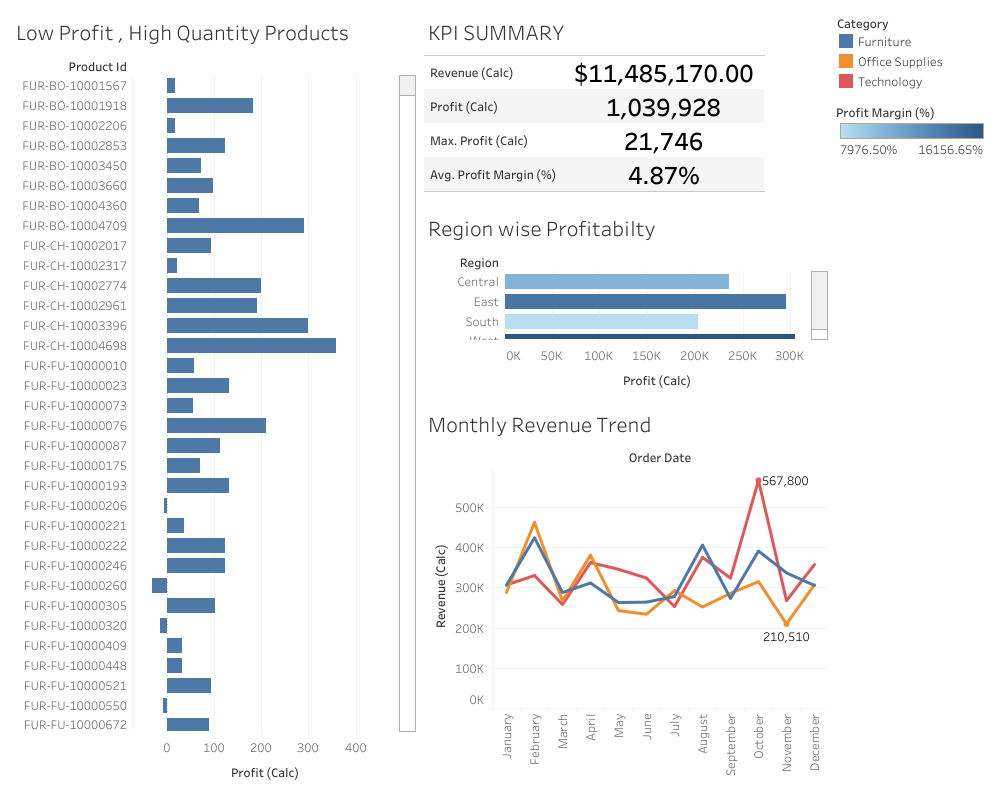

What the dashboard file says about the page in this screenshot:
{"tool":"tableau","page":{"name":"Dashboard 1","canvas":[1000,800],"ordinal":0},"visuals":[{"type":"worksheet","title":"Sheet 4","mark":"Automatic","rows":["ProductId"],"cols":["Calculation_14495982861287479"],"box":[8,8,412,784]},{"type":"worksheet","title":"Sheet 5","mark":"Text","box":[420,8,412,196]},{"type":"legend","title":"Sheet 2","param":"[federated.1eiq4hz0k24ix31fpieod13v8672].[none:Category:nk]","box":[832,8,160,87]},{"type":"legend","title":"Sheet 3","param":"[federated.1eiq4hz0k24ix31fpieod13v8672].[sum:Calculation_14495982861381688:qk]","box":[832,95,160,68]},{"type":"worksheet","title":"Sheet 3","mark":"Automatic","rows":["Region"],"cols":["Calculation_14495982861287479"],"box":[420,204,412,196]},{"type":"worksheet","title":"Sheet 2","mark":"Automatic","rows":["Calculation_14495982860873779"],"cols":["OrderDate"],"box":[420,400,412,392]}]}

Visuals, with their boxes in screenshot pixels (x1, y1, x2, y2), scaled from the page's 1000x800 canvas onto the 1000x800 screenshot:
"Sheet 4" worksheet: 8, 8, 420, 792
"Sheet 5" worksheet (Text marks): 420, 8, 832, 204
"Sheet 2" legend: 832, 8, 992, 95
"Sheet 3" legend: 832, 95, 992, 163
"Sheet 3" worksheet: 420, 204, 832, 400
"Sheet 2" worksheet: 420, 400, 832, 792
